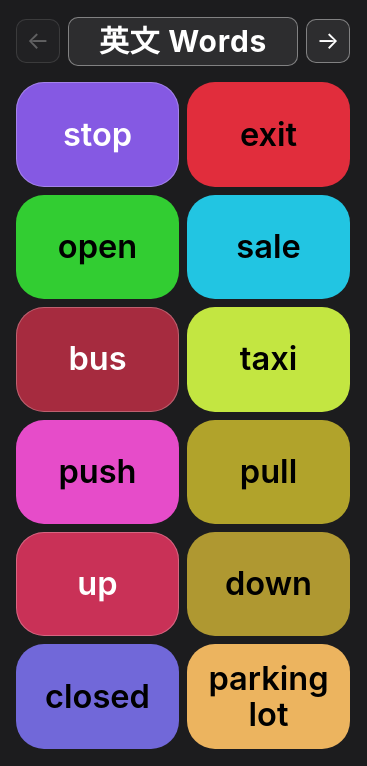
Test: switches to Japanese, shows kanji, and speaks the kana
The width and height of the screenshot is (367, 766).
Later steps or results of the test are not shown.
Click the button with aria-label "switch language" at coordinates (183, 41), box [68,17,298,66]
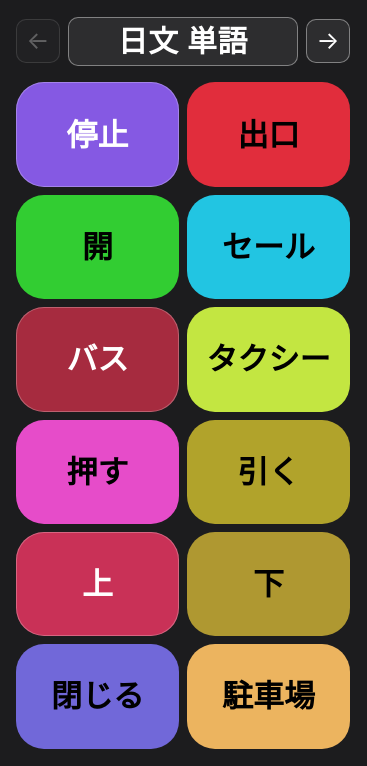
Result: the heading "日文 単語" is shown at [68,25,298,58]
Result: the button "停止" is shown at [16,82,179,187]
Result: the button "押す" is shown
Click the button "押す" at coordinates (98, 472), box [16,420,179,524]
Result: the button "押す" is shown at [16,420,179,524]
